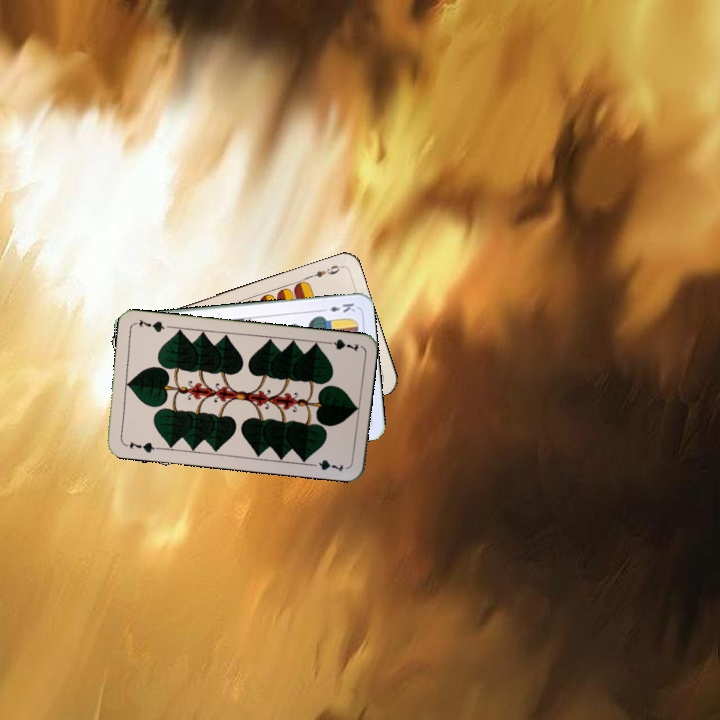E9: (304, 261, 344, 281)
EK: (317, 299, 358, 315)
G7: (321, 335, 361, 354), (126, 437, 161, 455)
